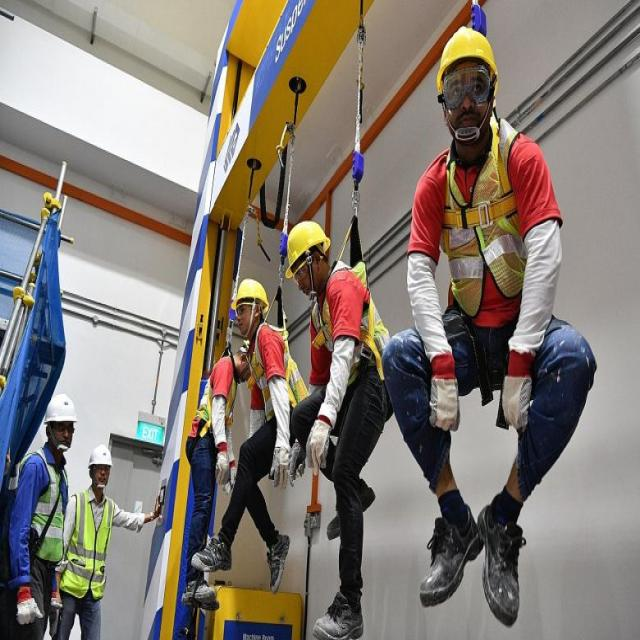Reflective-Jacket: (428, 125, 535, 322), (308, 267, 385, 391), (60, 489, 115, 598), (24, 444, 70, 566)
Safety-Helmet: (434, 20, 500, 84), (284, 217, 333, 273), (229, 274, 272, 308), (44, 389, 81, 426), (88, 442, 114, 468)
